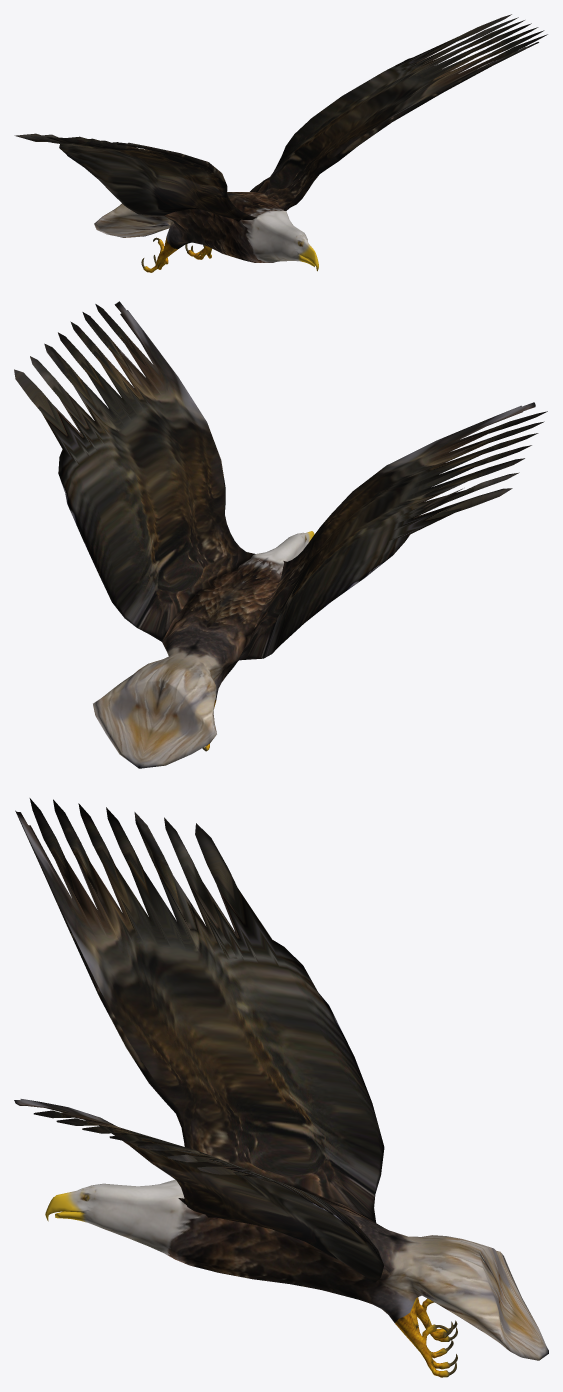
File: Eagle-original_000008.obj
3 views of the same model, one above another, from view 1: azimuth 30°, elevation 25°; view 2: azimuth 150°, elevation 25°; view 3: azimuth 270°, elevation 25° (orthographic). The views are drawn at different scales.
Visible parts, largest first — view 1: Flugel_Plane.003; view 2: Flugel_Plane.003; view 3: Flugel_Plane.003.
Boxes of the visible parts, <box> form: Flugel_Plane.003: <box>14,14,547,272</box>; Flugel_Plane.003: <box>14,301,547,768</box>; Flugel_Plane.003: <box>14,798,548,1377</box>.
Bounding box in the file's own units: 9.43 × 5.1 × 6.16.
Materials: 1 (1 with a texture image).
